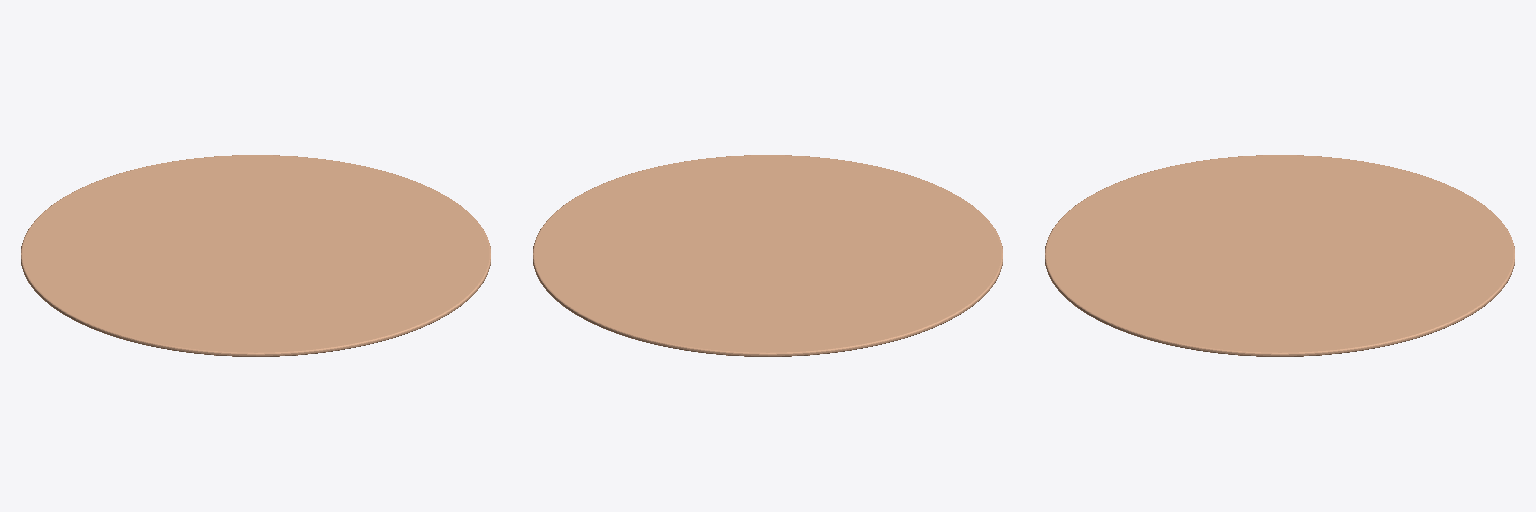
File: format3_obj.obj
The picture shows the model from 3 angles: view 1: azimuth 30°, elevation 25°; view 2: azimuth 150°, elevation 25°; view 3: azimuth 270°, elevation 25°; orthographic projection.
Visible parts, largest first — view 1: Cylinder002; view 2: Cylinder002; view 3: Cylinder002.
Part boxes in pixels (x1,y1,x2,y2): Cylinder002: (21, 155, 490, 356); Cylinder002: (533, 155, 1002, 356); Cylinder002: (1045, 155, 1514, 356).
Size of the model in its own units: 300 by 3 by 300.